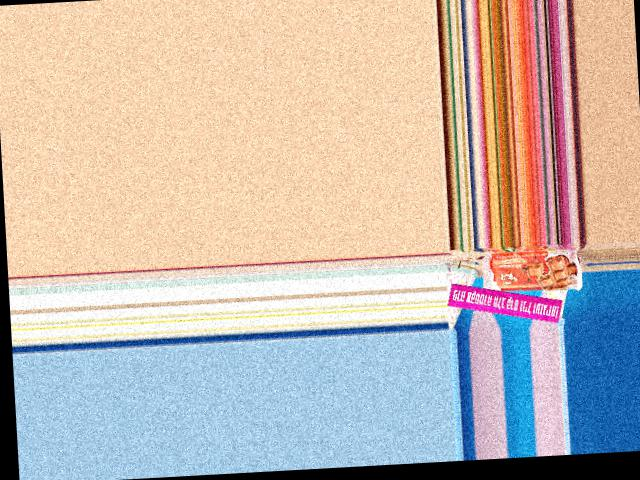chocolate: (479, 245, 585, 296)
